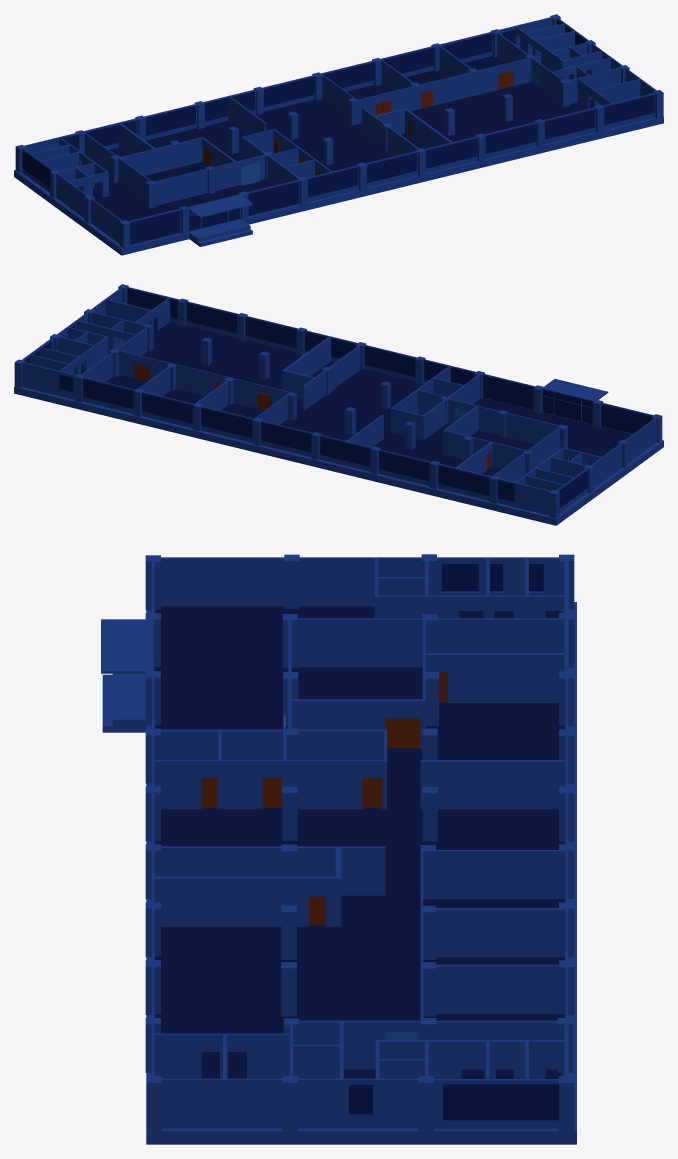
File: 4号楼楼体-一层.obj
3 renders of one model, top to bottom at view 1: azimuth 30°, elevation 25°; view 2: azimuth 150°, elevation 25°; view 3: azimuth 270°, elevation 25°, orthographic. The views are drawn at different scales.
Visible parts, largest first — view 1: 一楼外墙_Cube.028, 一楼地面.001_二楼地面.002, 一楼外墙-玻璃.004_玻璃.007, 一楼内墙.001_Cube.033, 一楼地面.002_立方体.010, 一楼外墙-玻璃.005_玻璃.008, 一楼西-厕所墙_Cube.037, 一楼-柱子.004_Cube.147, 一楼内墙.002_Cube.148, 一楼内墙_Cube.030, 一楼内墙.003_Cube.149, 一楼地面_立方体 (+2 smaller); view 2: 一楼外墙_Cube.028, 一楼地面.001_二楼地面.002, 一楼外墙-玻璃.005_玻璃.008, 一楼外墙-玻璃.004_玻璃.007, 一楼内墙.001_Cube.033, 一楼地面.002_立方体.010, 一楼西-厕所墙_Cube.037, 一楼-柱子.004_Cube.147, 一楼内墙.002_Cube.148, 一楼内墙_Cube.030, 一楼内墙.003_Cube.149, 一楼-柱子_Cube.032 (+2 smaller); view 3: 一楼地面.001_二楼地面.002, 一楼外墙_Cube.028, 一楼内墙.001_Cube.033, 一楼-柱子.004_Cube.147, 一楼内墙.002_Cube.148, 一楼西-厕所墙_Cube.037, 一楼地面.002_立方体.010, 一楼内墙_Cube.030, 一楼外墙-玻璃.004_玻璃.007, 一楼地面_立方体, 一楼-柱子_Cube.032, 立方体.004_立方体.031 (+1 smaller).
Part boxes in pixels (x1,y1,x2,y2): 一楼外墙_Cube.028: [15, 14, 663, 248]; 一楼地面.001_二楼地面.002: [81, 56, 592, 221]; 一楼外墙-玻璃.004_玻璃.007: [22, 95, 654, 244]; 一楼内墙.001_Cube.033: [321, 45, 640, 124]; 一楼地面.002_立方体.010: [14, 117, 663, 255]; 一楼外墙-玻璃.005_玻璃.008: [63, 20, 606, 149]; 一楼西-厕所墙_Cube.037: [31, 23, 610, 197]; 一楼-柱子.004_Cube.147: [287, 98, 452, 165]; 一楼内墙.002_Cube.148: [205, 126, 332, 193]; 一楼内墙_Cube.030: [110, 123, 236, 182]; 一楼内墙.003_Cube.149: [145, 154, 265, 208]; 一楼地面_立方体: [228, 96, 266, 134]; 一楼外墙_Cube.028: [14, 284, 662, 518]; 一楼地面.001_二楼地面.002: [81, 318, 631, 476]; 一楼外墙-玻璃.005_玻璃.008: [25, 289, 651, 433]; 一楼外墙-玻璃.004_玻璃.007: [59, 374, 587, 508]; 一楼内墙.001_Cube.033: [92, 297, 290, 424]; 一楼地面.002_立方体.010: [14, 386, 663, 525]; 一楼西-厕所墙_Cube.037: [30, 320, 602, 490]; 一楼-柱子.004_Cube.147: [282, 336, 390, 435]; 一楼内墙.002_Cube.148: [391, 366, 508, 449]; 一楼内墙_Cube.030: [443, 406, 532, 474]; 一楼内墙.003_Cube.149: [448, 398, 567, 448]; 一楼-柱子_Cube.032: [166, 337, 269, 405]; 一楼地面.001_二楼地面.002: [154, 606, 564, 1078]; 一楼外墙_Cube.028: [145, 554, 574, 1131]; 一楼内墙.001_Cube.033: [153, 850, 565, 1079]; 一楼-柱子.004_Cube.147: [154, 786, 437, 926]; 一楼内墙.002_Cube.148: [154, 672, 437, 809]; 一楼西-厕所墙_Cube.037: [293, 557, 564, 1078]; 一楼地面.002_立方体.010: [102, 602, 576, 1144]; 一楼内墙_Cube.030: [289, 614, 564, 748]; 一楼外墙-玻璃.004_玻璃.007: [151, 564, 558, 1120]; 一楼地面_立方体: [420, 760, 566, 809]; 一楼-柱子_Cube.032: [281, 905, 435, 1016]; 立方体.004_立方体.031: [101, 619, 153, 673].
Size of the model in its own units: 80.56 by 4.38 by 30.6.
